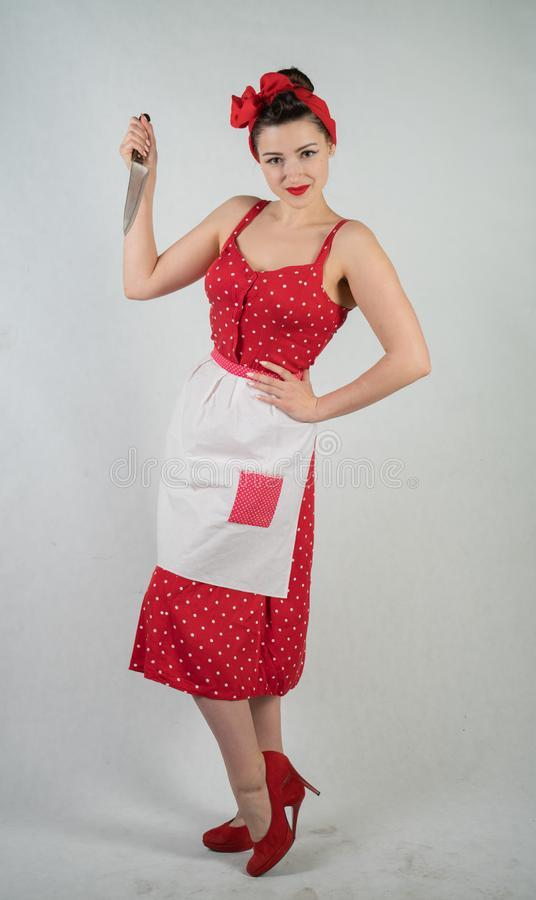criminal: (112, 60, 438, 880)
weapon: (115, 106, 160, 242)
